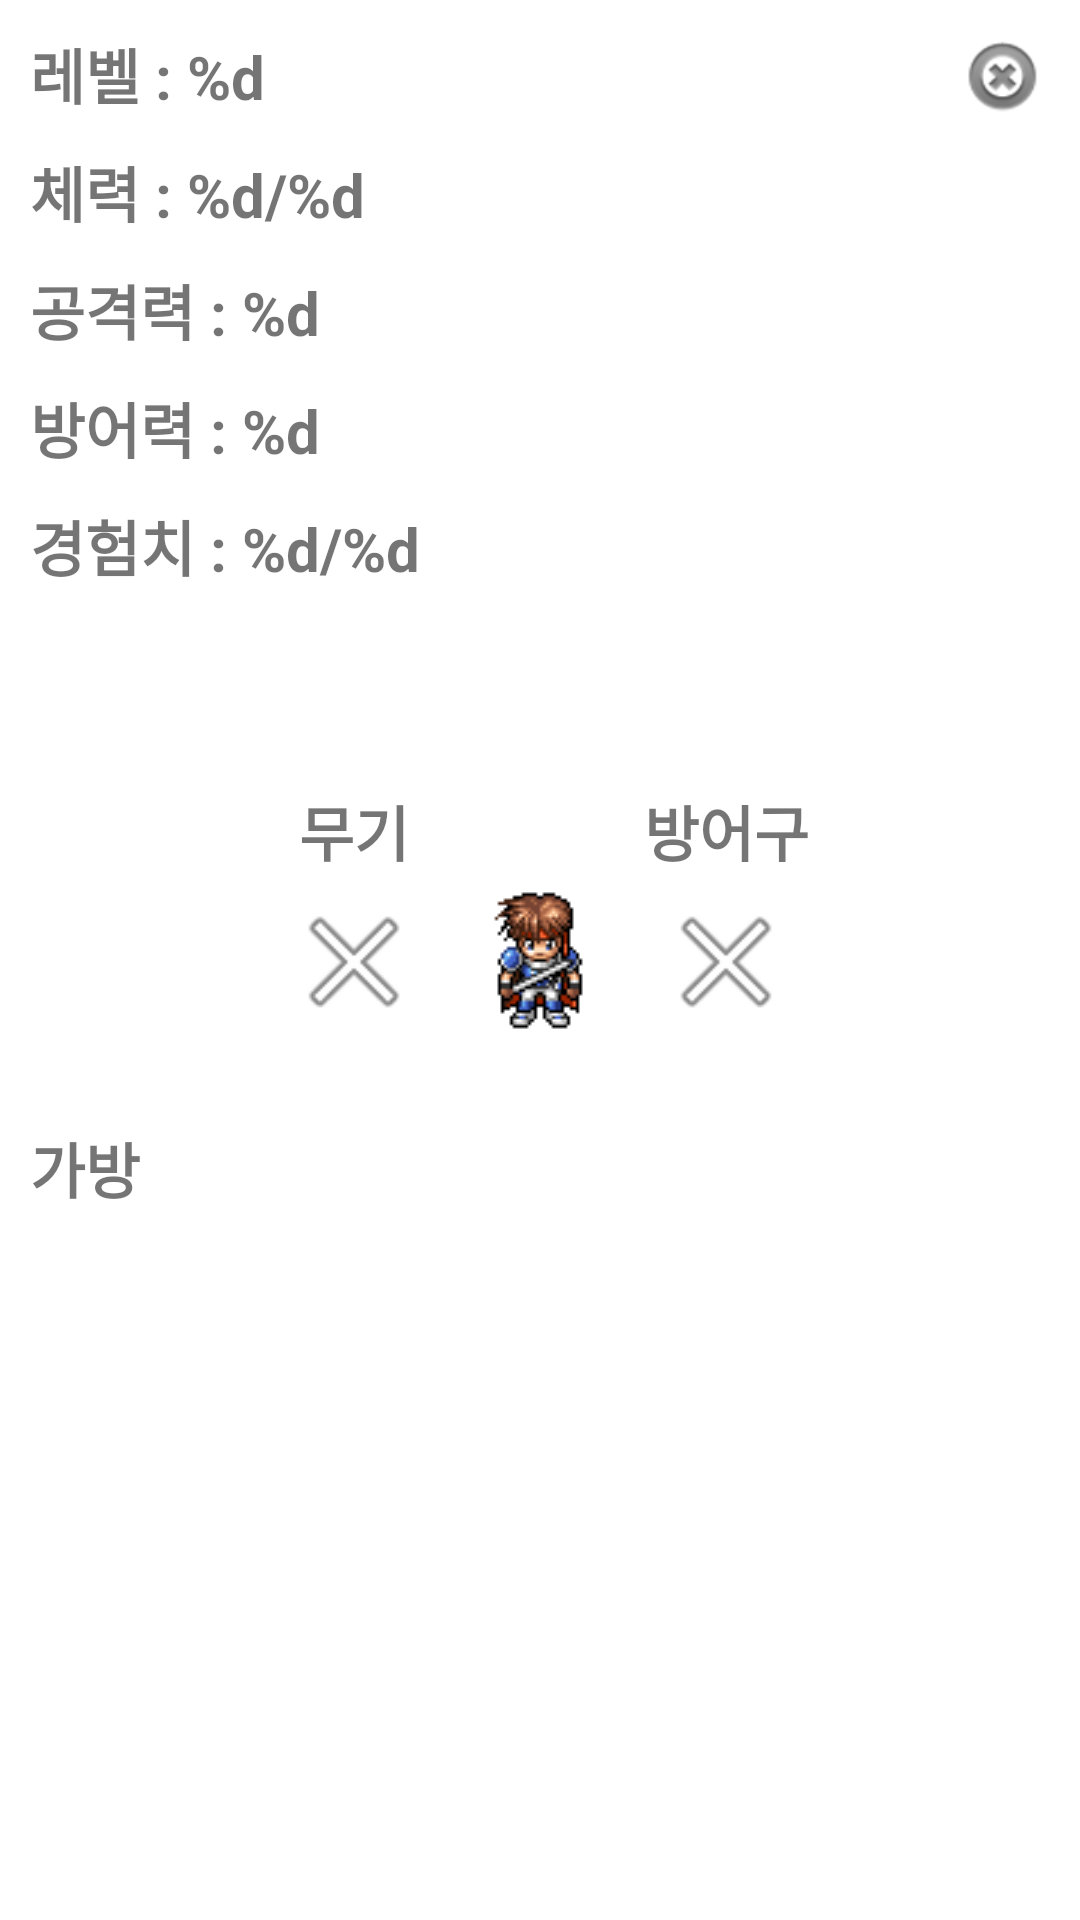

Locate icon controls on the screen. Image size 1080 × 1920, boxes as [left=x1, top=y1, right=x2, bottom=y2].
notification clear all: [left=968, top=42, right=1037, bottom=110]
